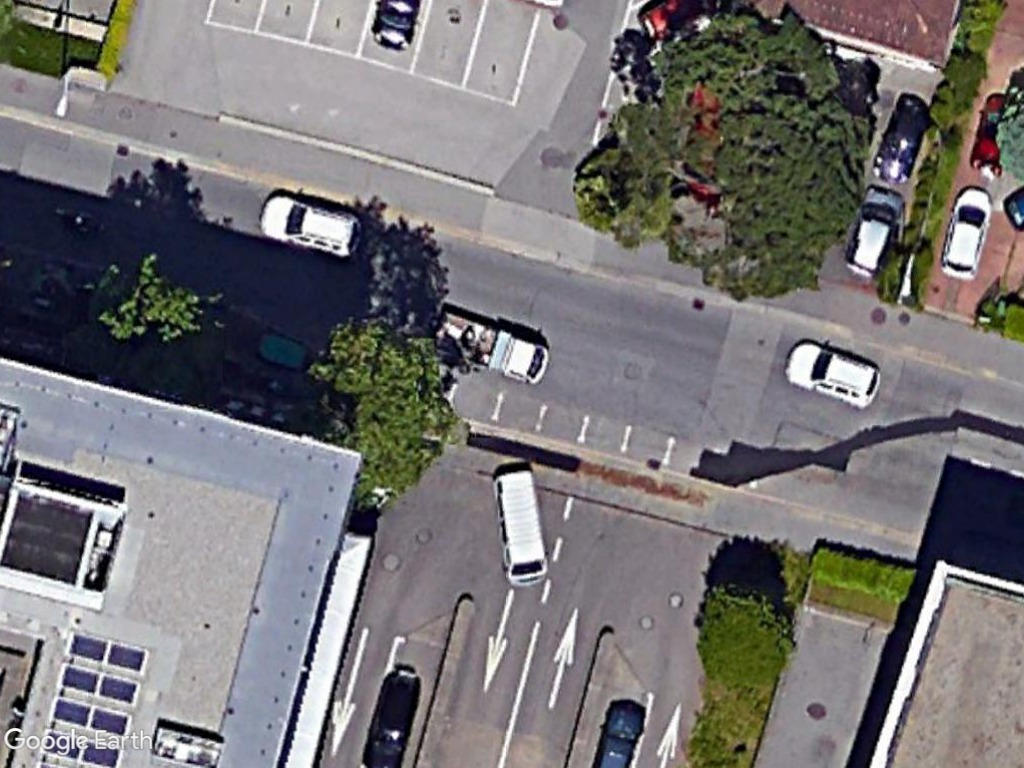car: (248, 190, 366, 263), (776, 337, 886, 409), (840, 183, 906, 287), (938, 183, 998, 286)
van: (487, 464, 549, 590)
